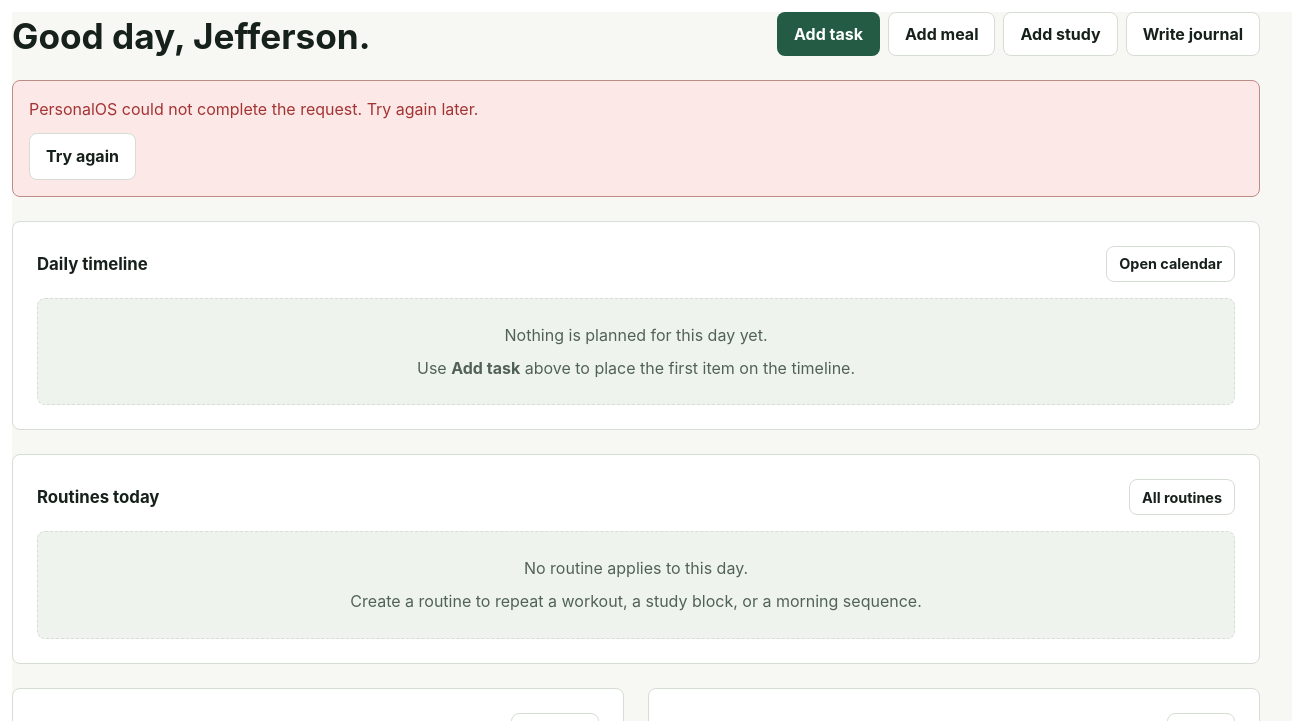
Test case: TodayComponent › shows an accessible error state and can retry when the day fails to load
Expected: the message "PersonalOS could not complete the request. Try again later. Try again" is shown, [12,80,1260,197]
Click the button "Try again".
click(82, 156)  # box [29,133,136,180]
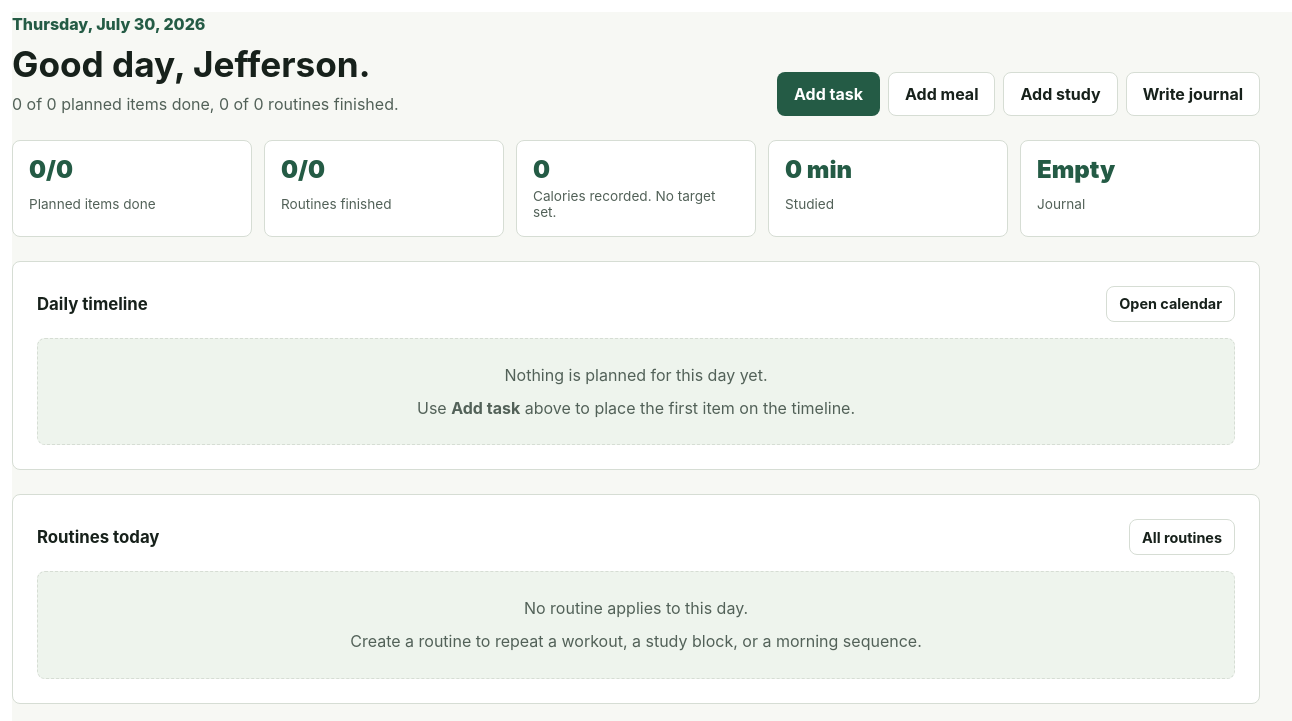
Result: the message with class "alert--error" is gone
